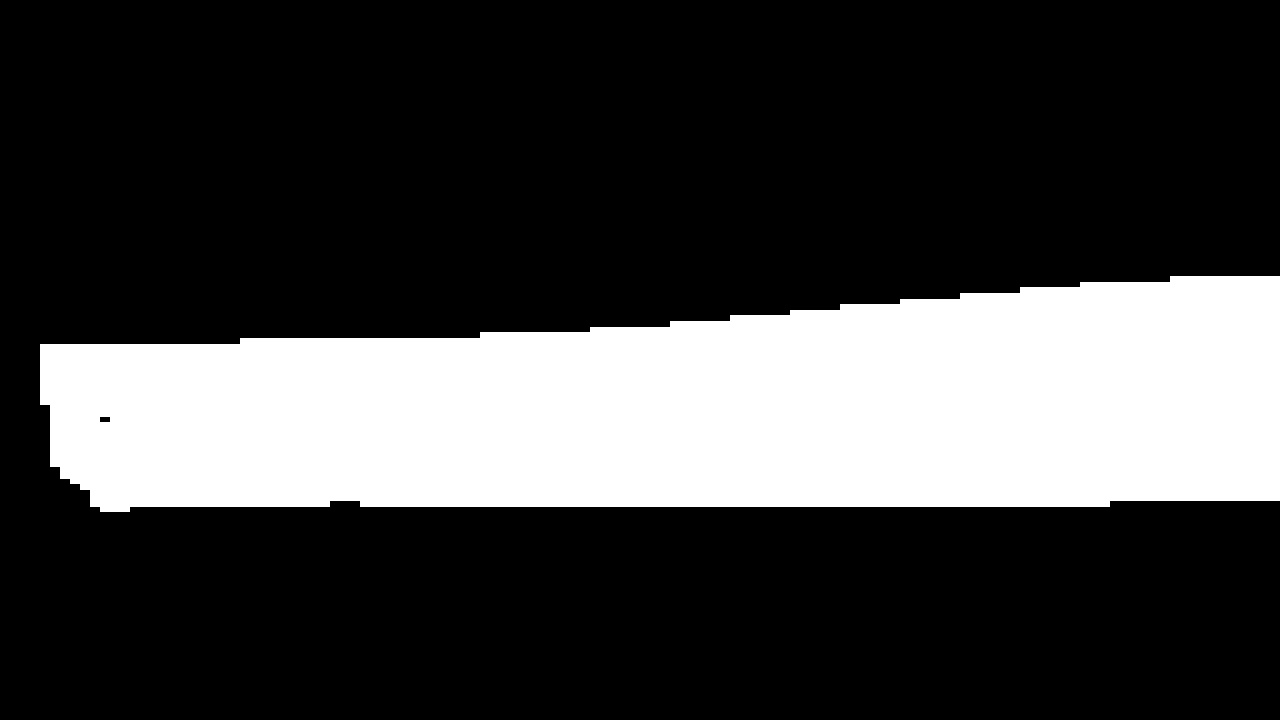Turbine: (20, 248, 1268, 537)
